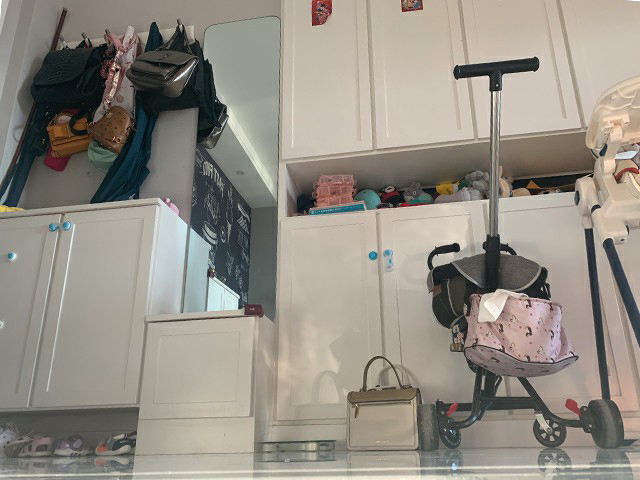cabinet: (264, 1, 640, 449), (133, 304, 276, 455)
